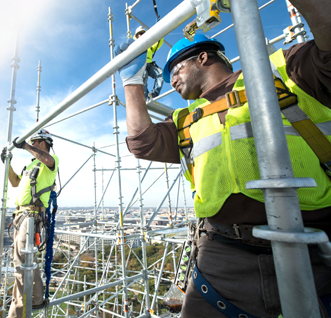epi: (121, 29, 330, 318), (6, 124, 55, 309), (126, 24, 168, 93)
